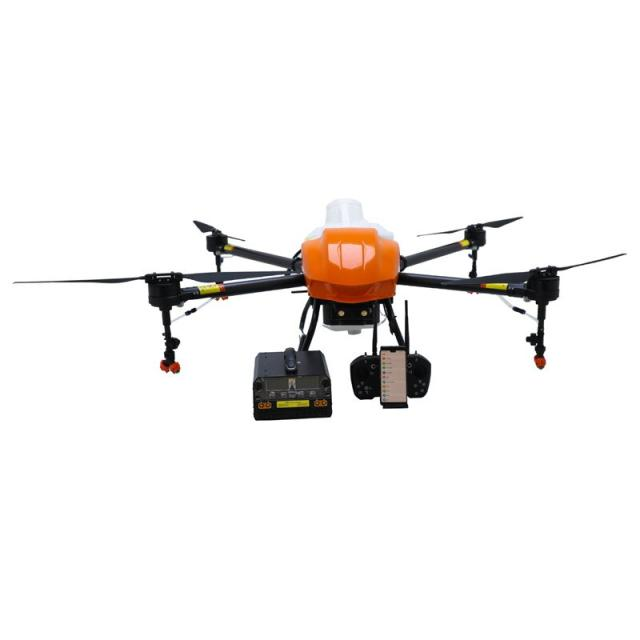drone: (48, 196, 611, 421)
